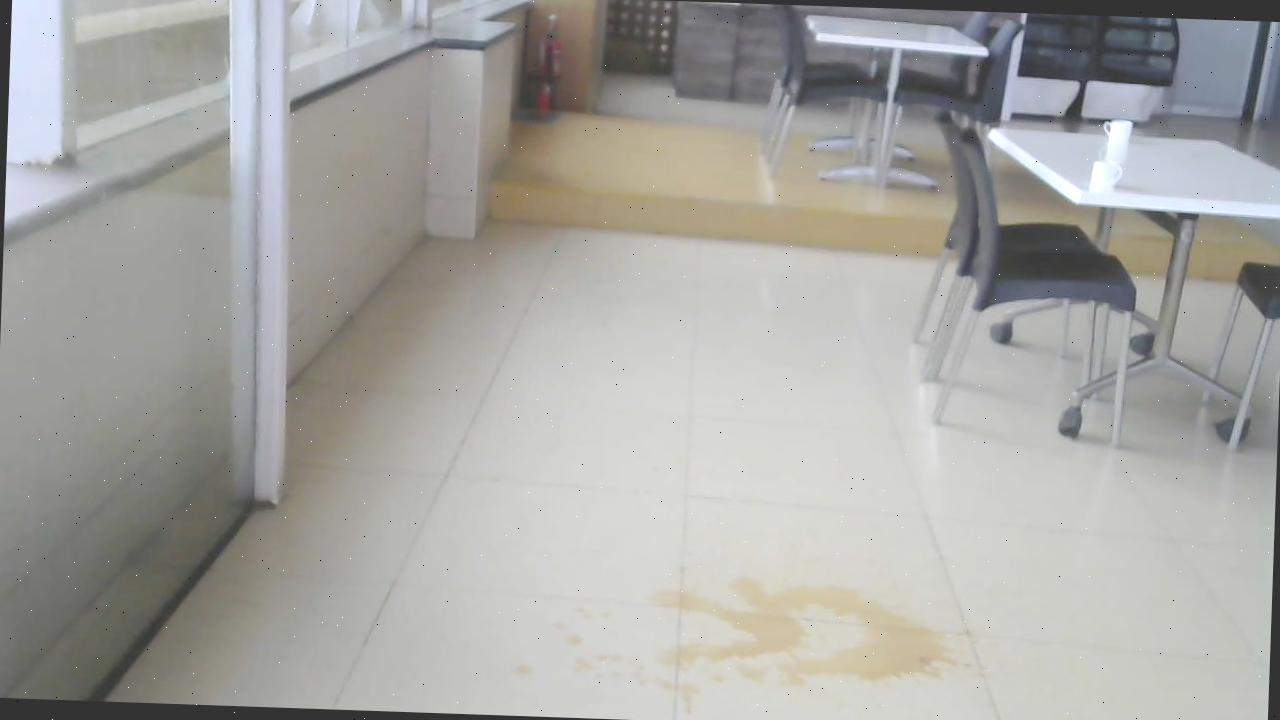dirty_floor: (524, 557, 987, 715)
